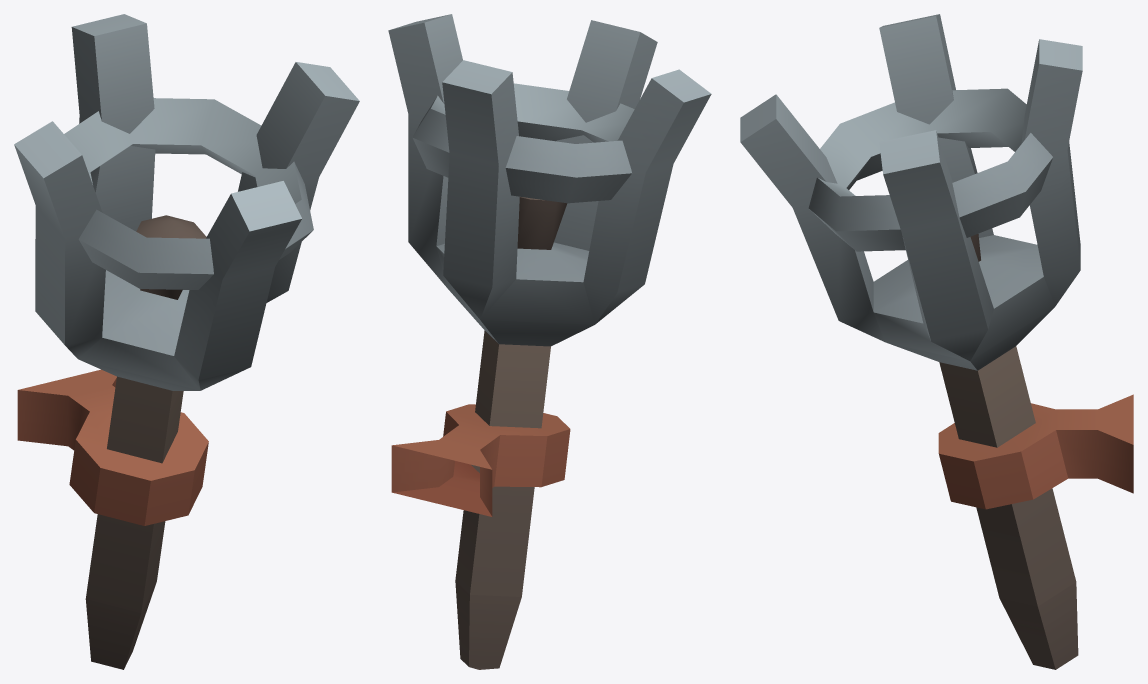
Rendered from torch_mounted.obj.
The picture shows the model from 3 angles, left to right: view 1: azimuth 30°, elevation 25°; view 2: azimuth 150°, elevation 25°; view 3: azimuth 270°, elevation 25°; orthographic projection. The views are drawn at different scales.
Visible parts, largest first — view 1: torch_mounted; view 2: torch_mounted; view 3: torch_mounted.
Part boxes in pixels (bbox=[...]): torch_mounted: bbox=[14, 14, 359, 669]; torch_mounted: bbox=[388, 14, 711, 669]; torch_mounted: bbox=[740, 14, 1133, 669].
Size of the model in its own units: 0.5503 by 1.06 by 0.6158.
1 material, 1 textured.
